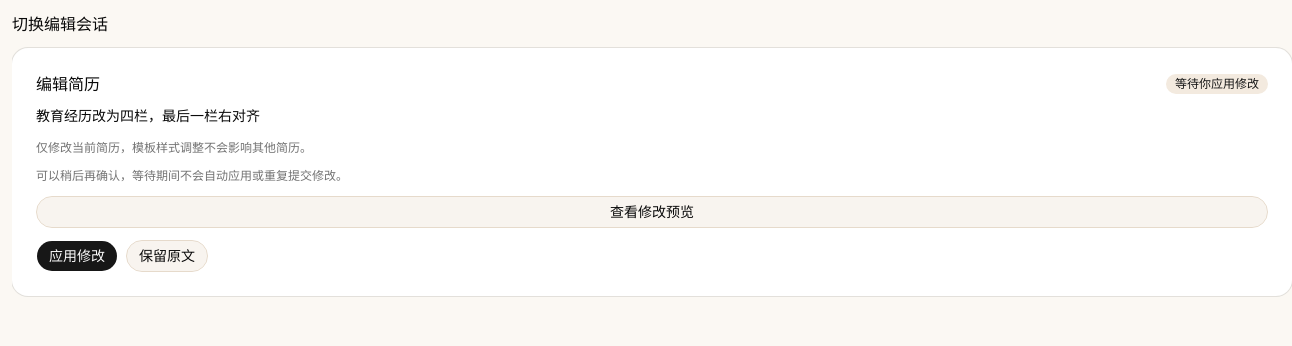
Test: editor request decisions › does not edit if the Host refuses to begin an ended request
What coordinates should you click on to do the following:
click the button "应用修改"
I would click on:
 (77, 256)
Its box is [36, 240, 118, 272].
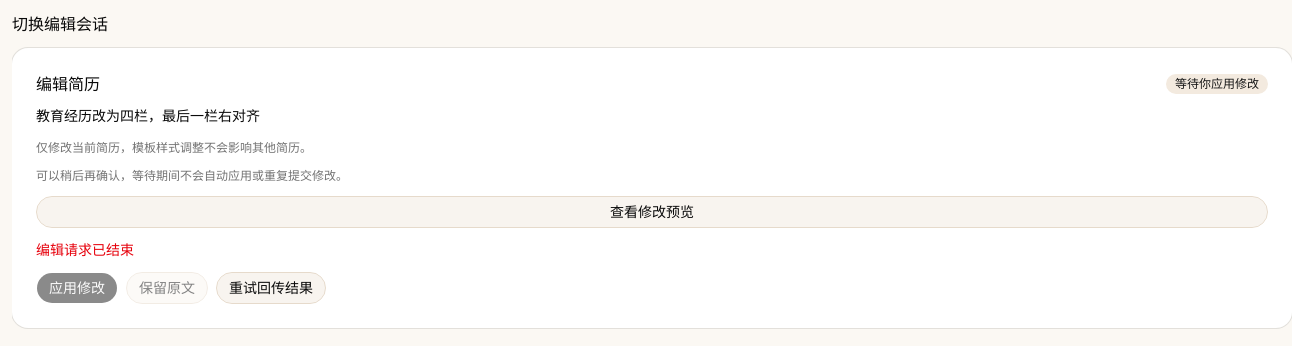
Now the text "编辑请求已结束" is shown, box [36, 241, 134, 258]
